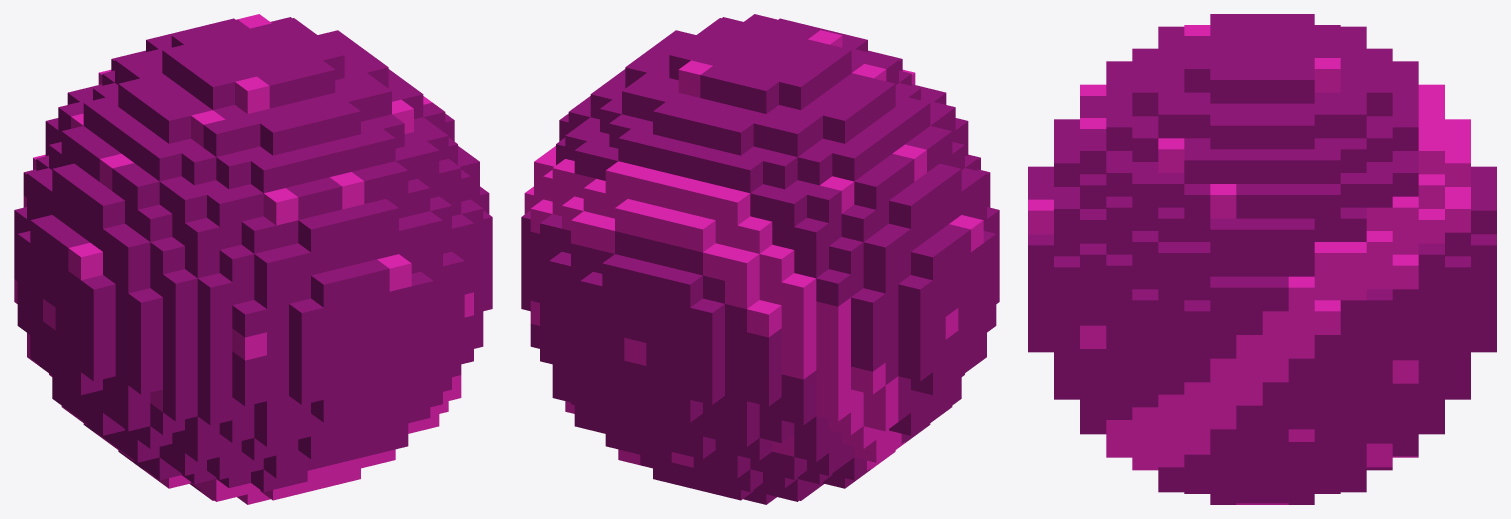
The model's file is розовый шар для босса.obj.
3 views of the same model, side by side, from view 1: azimuth 30°, elevation 25°; view 2: azimuth 150°, elevation 25°; view 3: azimuth 270°, elevation 25° (orthographic). The views are drawn at different scales.
Size of the model in its own units: 1.8 by 1.8 by 1.8.
Materials: 1 (1 with a texture image).
